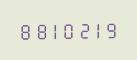eight: (17, 20, 30, 40), (31, 20, 44, 40)
nine: (101, 19, 114, 39)
one: (45, 20, 58, 40), (87, 19, 100, 39)
two: (73, 19, 86, 39)
zero: (59, 20, 72, 39)
